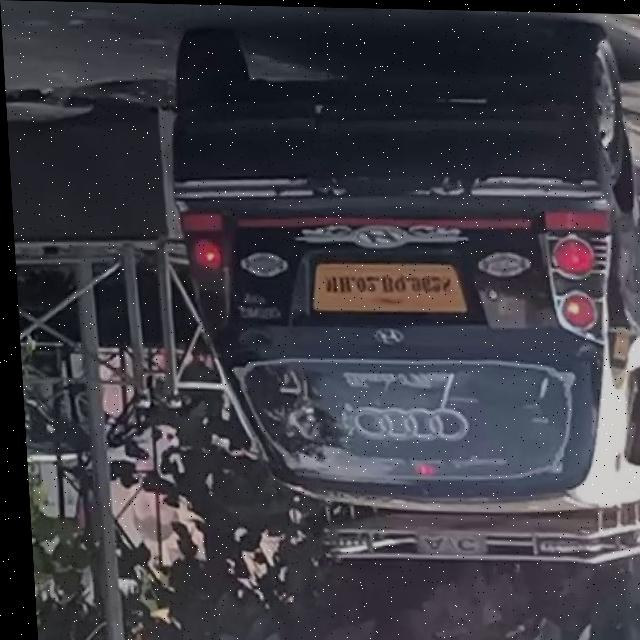plate: (304, 260, 464, 316)
